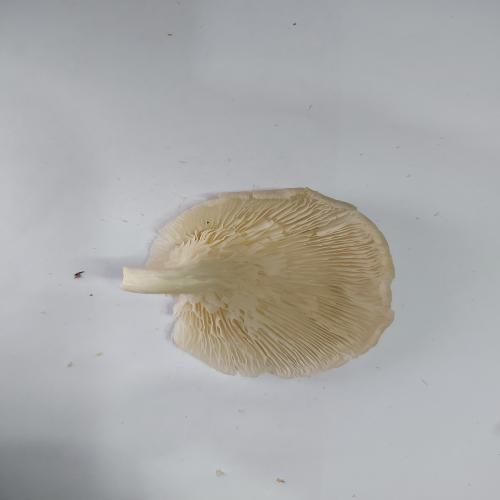Oyster Mushroom: (119, 186, 396, 379)
